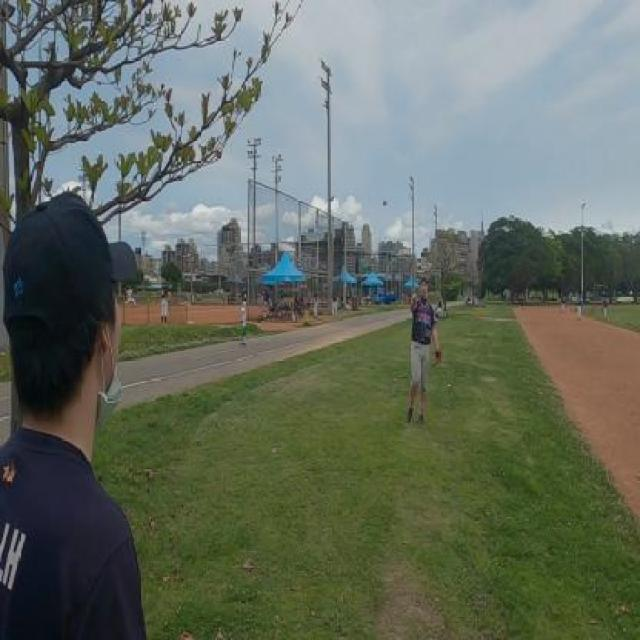baseball: (382, 199, 387, 206)
